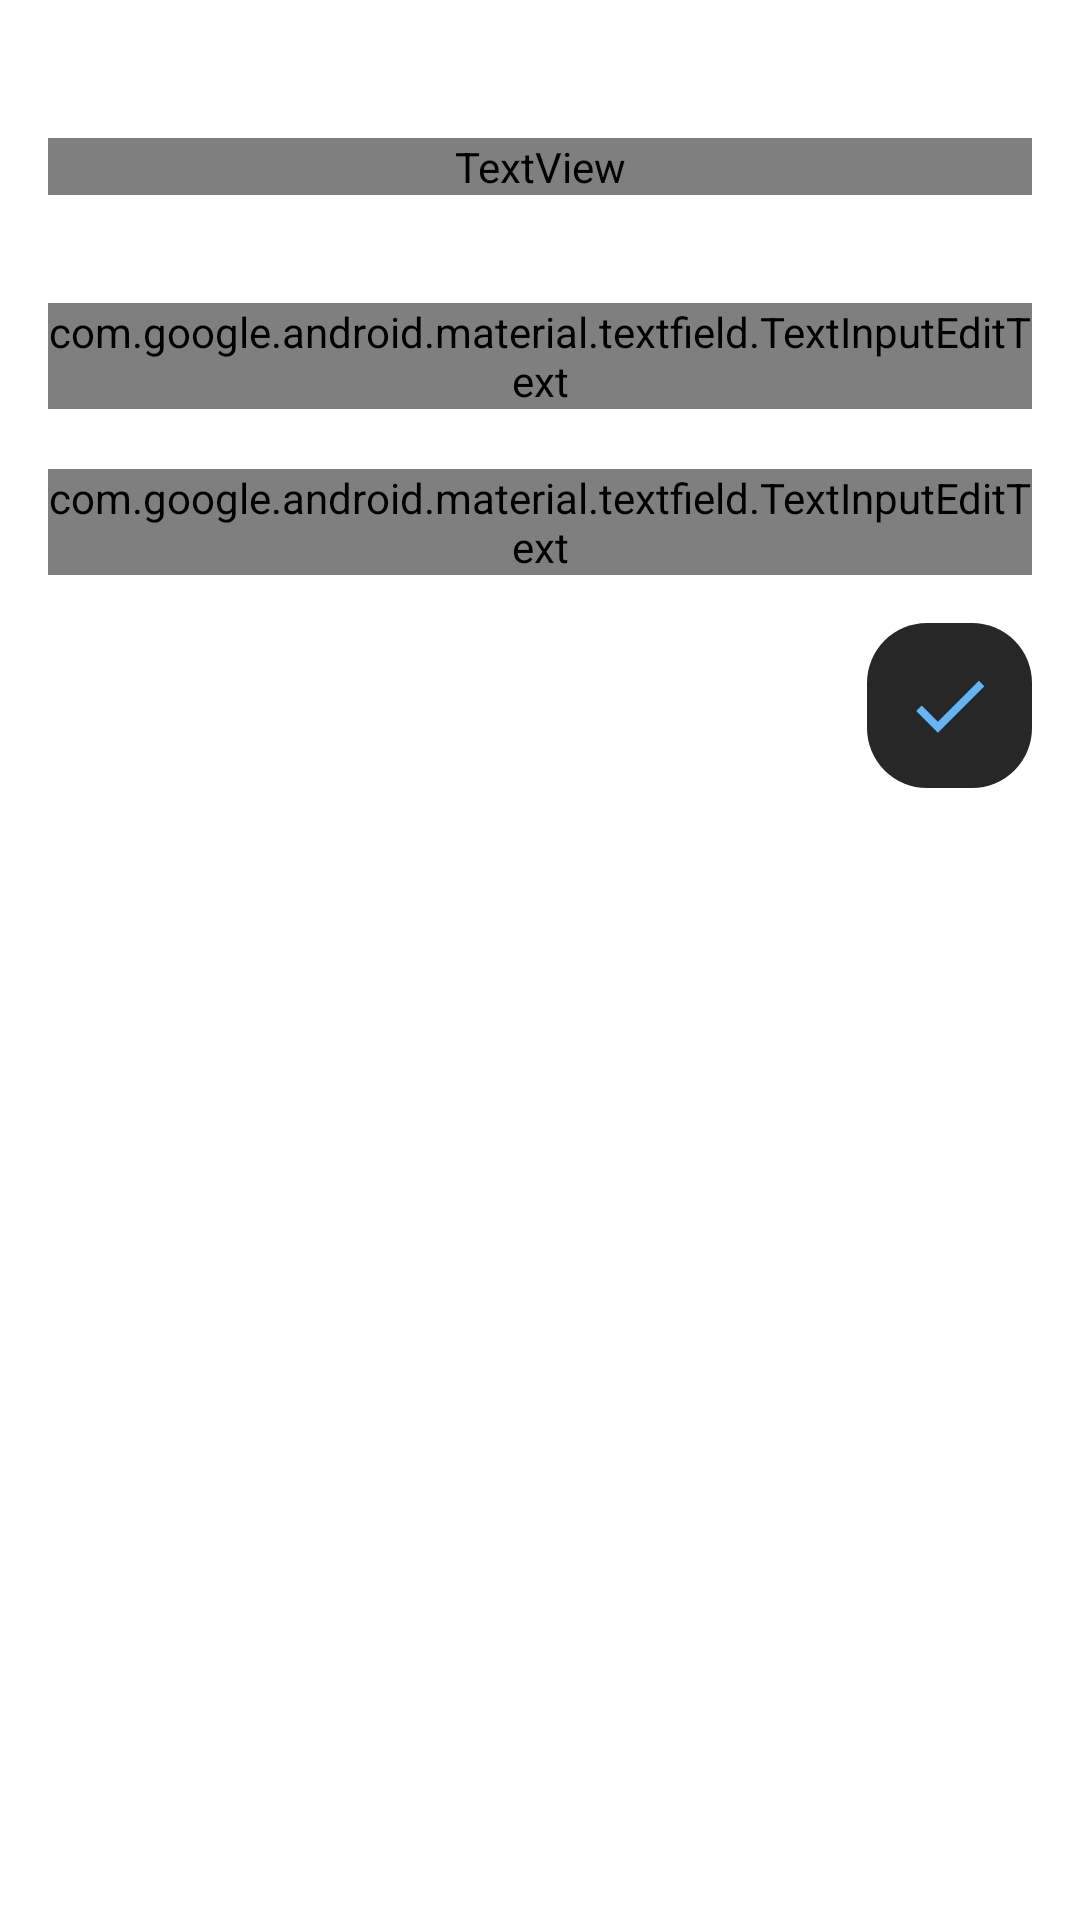

Point at icon controls on the screen. Image size 1080w x 1920h, points as (x=x, y=y).
check: (x=949, y=705)
